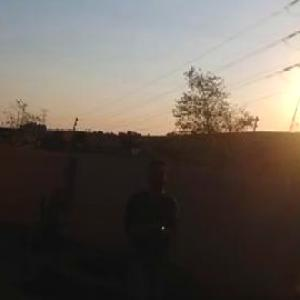follow: (111, 149, 177, 299)
